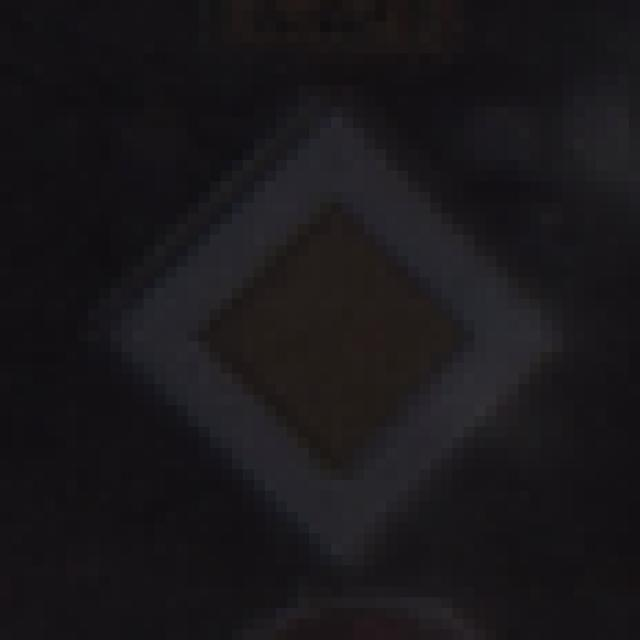Main Road: (56, 54, 586, 588)
